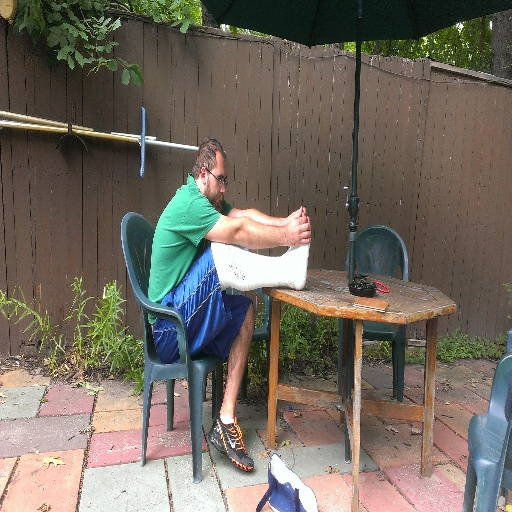hand: (274, 200, 312, 252), (283, 204, 311, 224)
